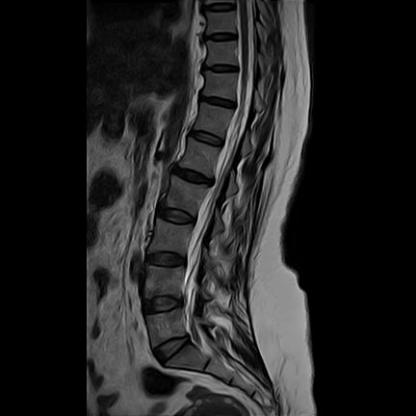Degenerative Disc Diseaserotation: (165, 165, 221, 187)
Disc Bulgerotation: (139, 291, 188, 320)
